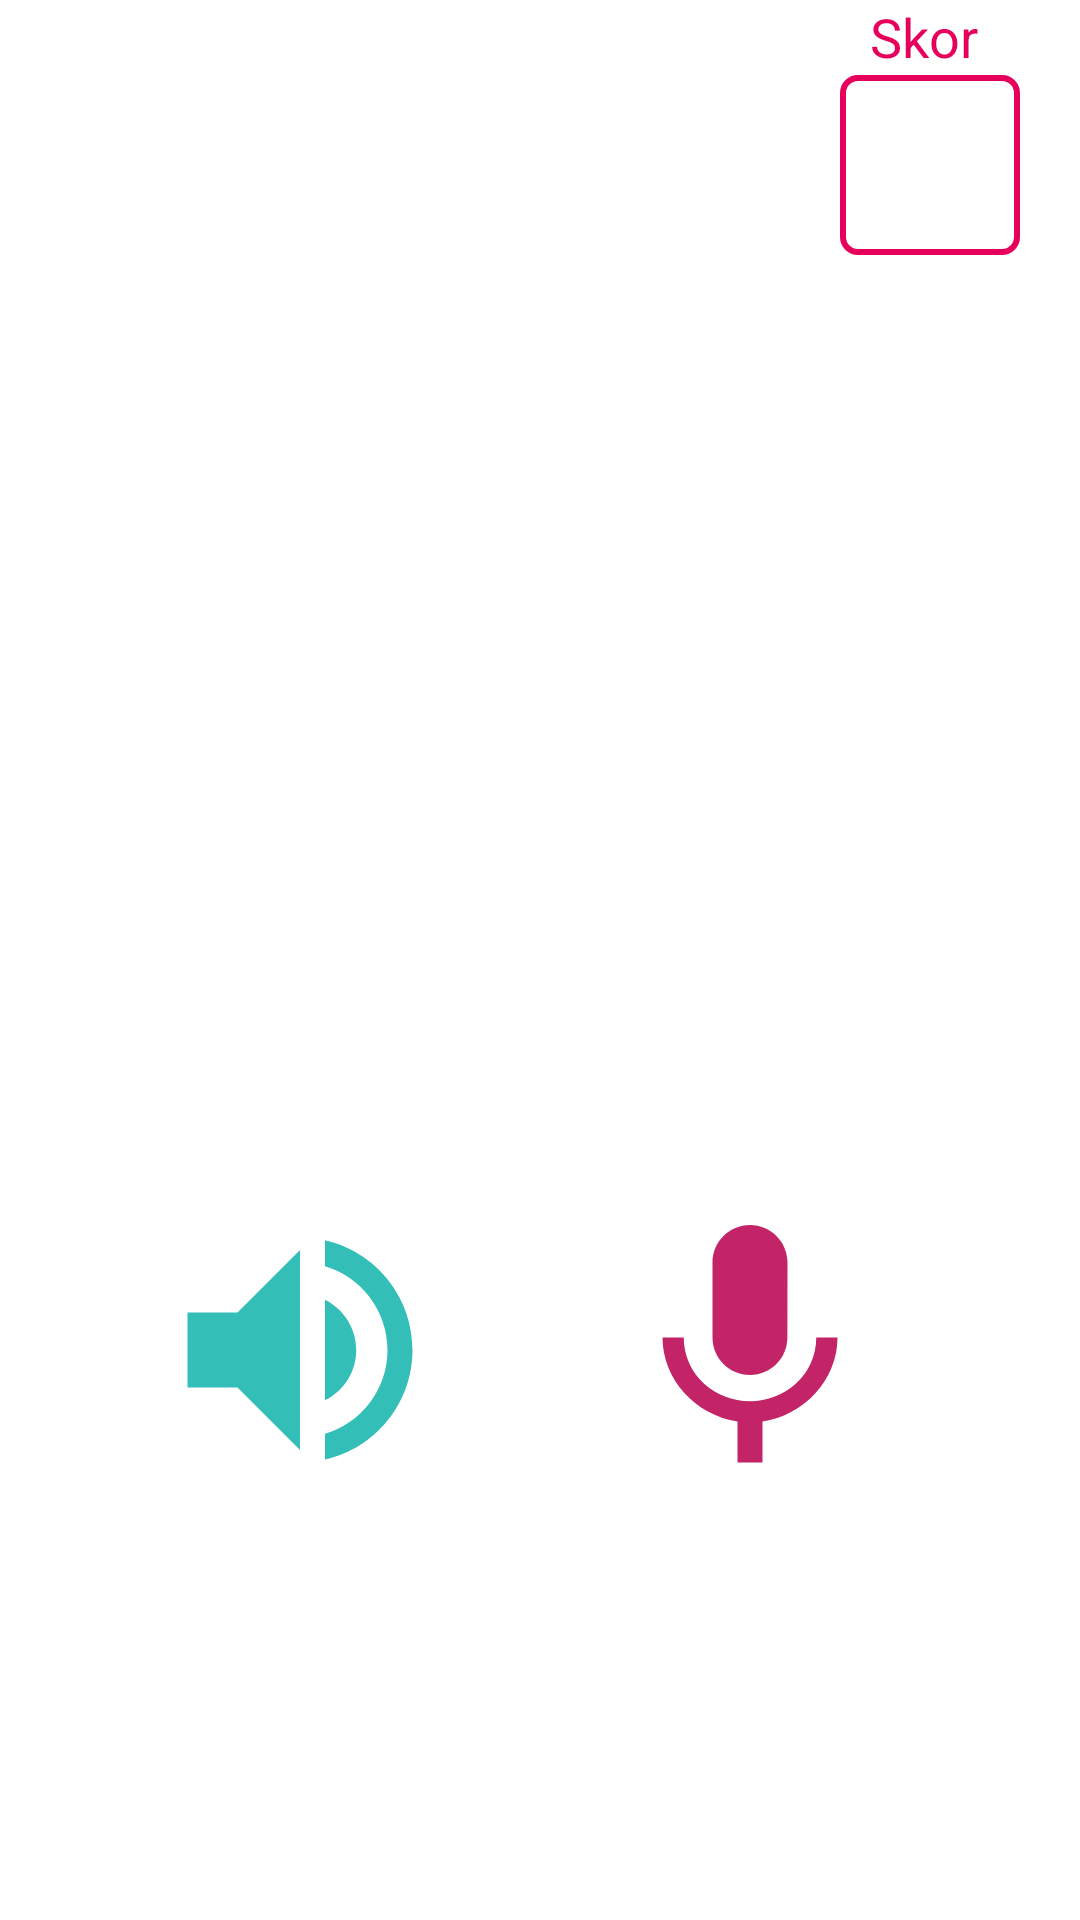

Point at icon controls on the screen. Image size 1080px×1920px, points as [x,y].
mic: [750,1344]
speaker: [300,1350]
